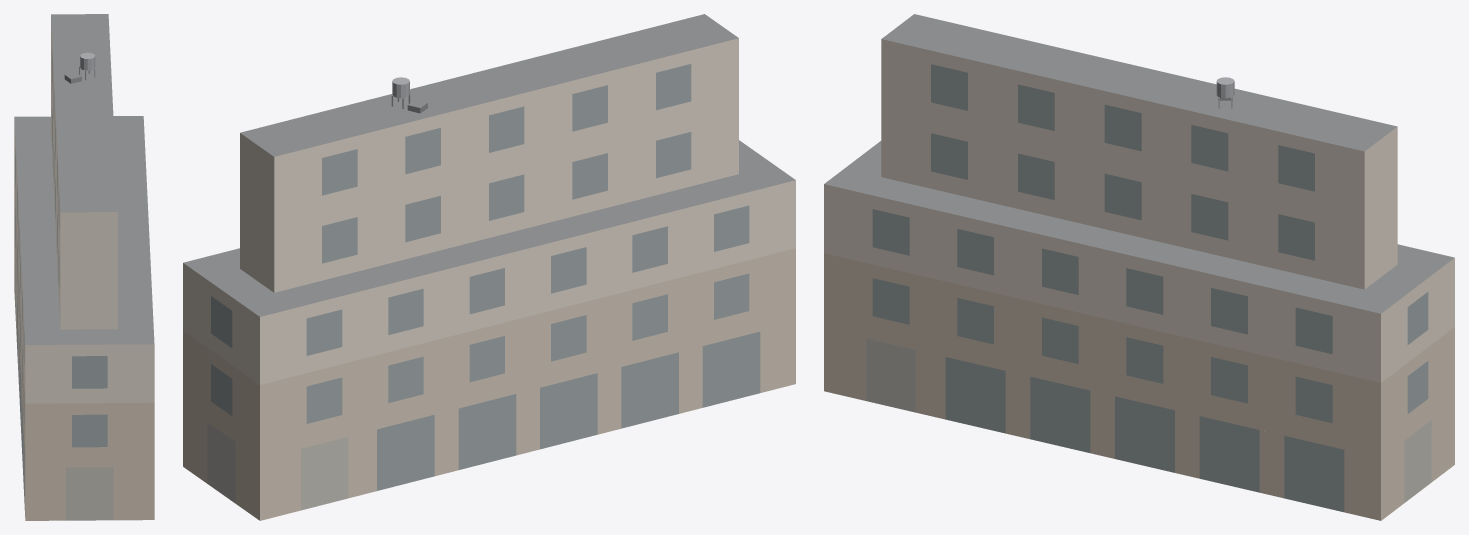
File: doitt-925937__lod_1.glb
The picture shows the model from 3 angles, left to right: view 1: azimuth 30°, elevation 25°; view 2: azimuth 150°, elevation 25°; view 3: azimuth 270°, elevation 25°; orthographic projection. The views are drawn at different scales.
Size of the model in its own units: 18.78 by 17.42 by 26.93.
